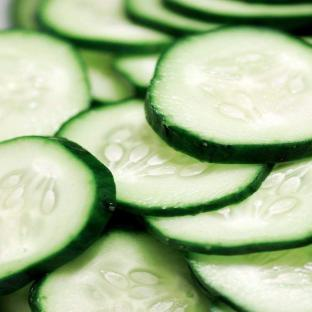Cucumber: (57, 100, 271, 216), (147, 27, 311, 163), (0, 137, 115, 295), (145, 159, 311, 254), (30, 231, 210, 311), (0, 30, 89, 140), (188, 246, 311, 311), (80, 50, 134, 104), (114, 55, 158, 97), (0, 284, 31, 311), (0, 0, 11, 30), (211, 300, 235, 311), (302, 37, 311, 44)
